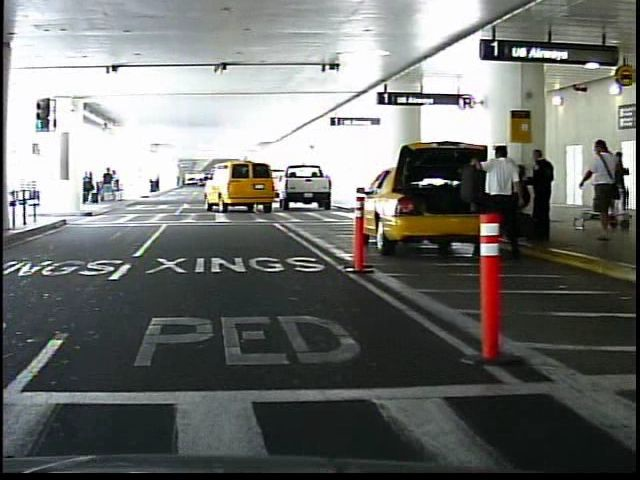person: (578, 138, 623, 240)
